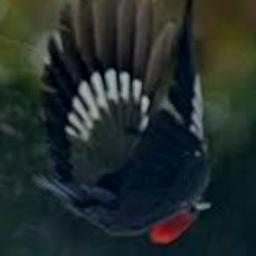Woodpecker: (32, 0, 211, 245)
